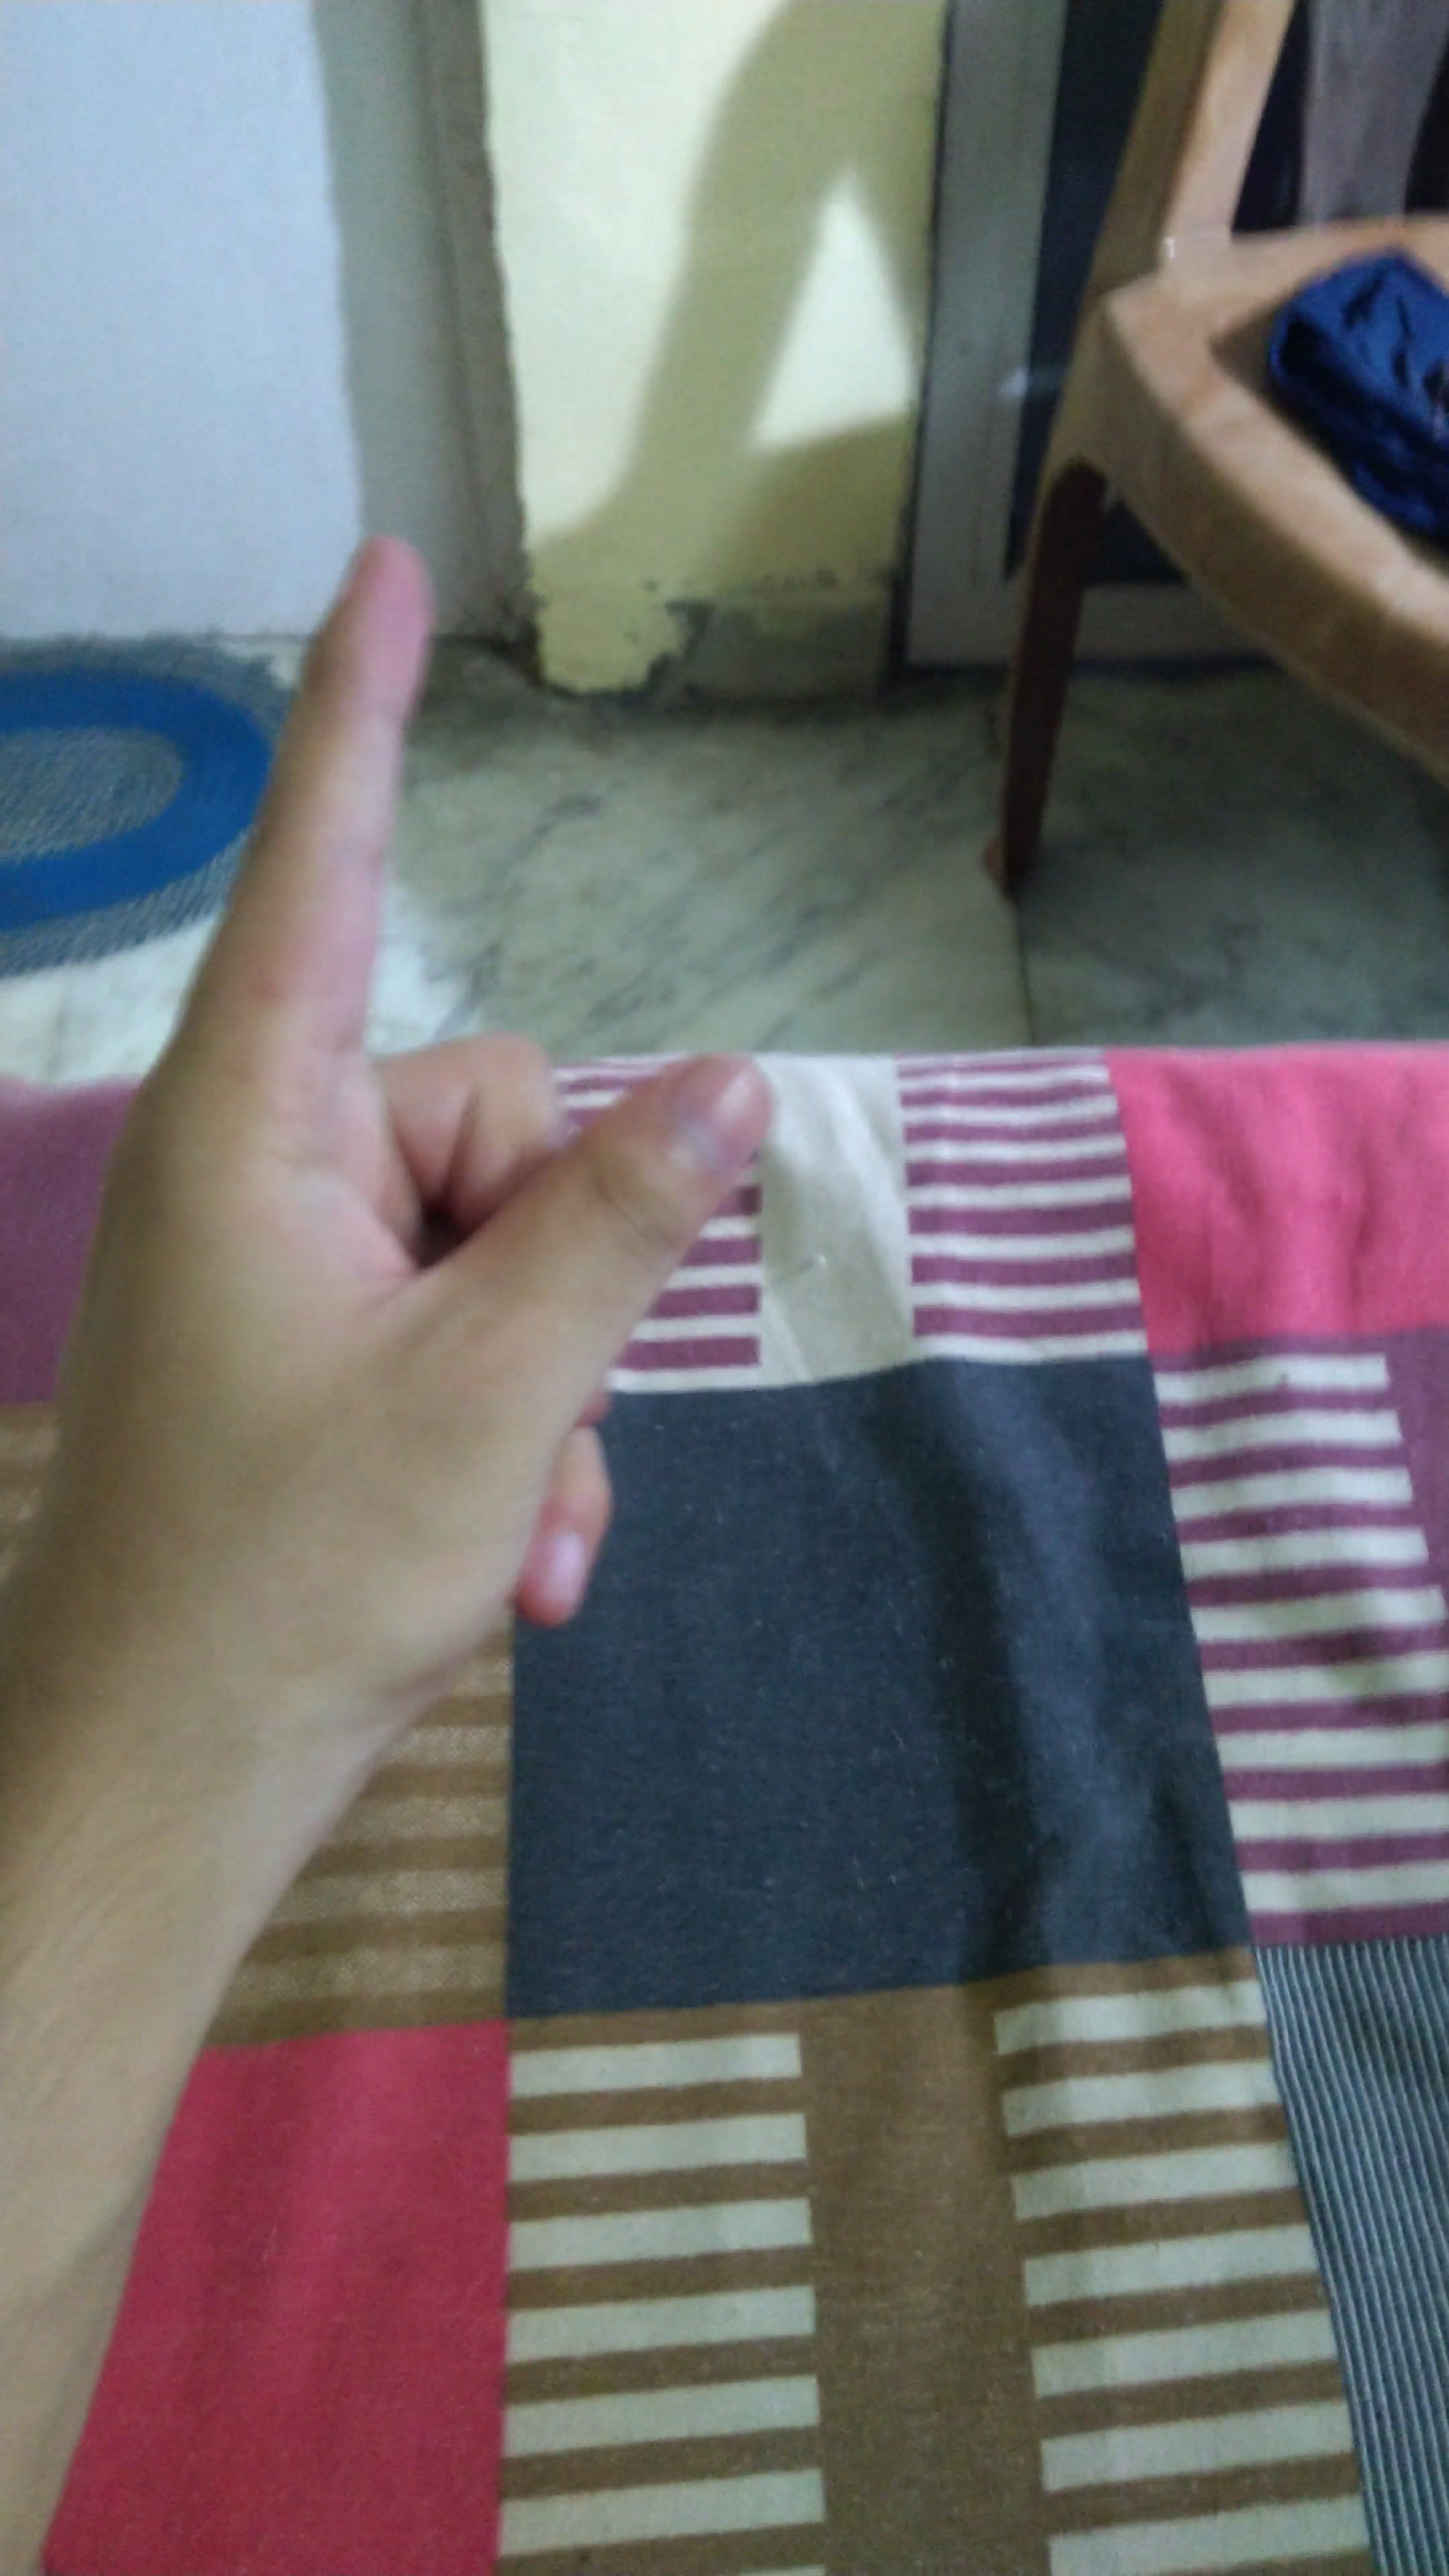hand: (41, 536, 902, 1769)
